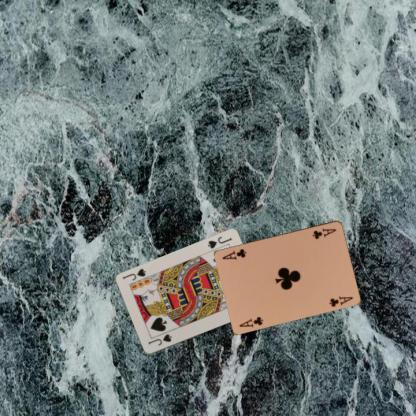Ac: (236, 314, 265, 328), (310, 226, 337, 240)
Js: (205, 234, 233, 250), (146, 332, 172, 347)
